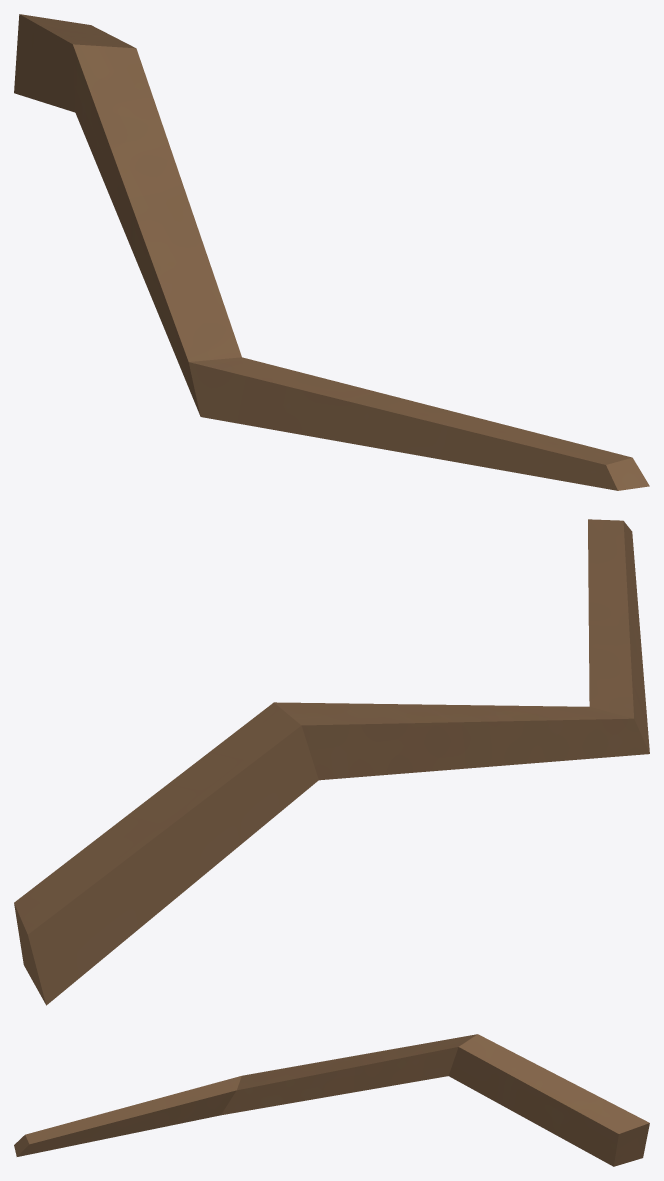
The model's file is Branch1.FBX.
The picture shows the model from 3 angles, top to bottom: view 1: azimuth 30°, elevation 25°; view 2: azimuth 150°, elevation 25°; view 3: azimuth 270°, elevation 25°; orthographic projection. The views are drawn at different scales.
Parts seen in each view (by area): view 1: Branch1; view 2: Branch1; view 3: Branch1.
Part boxes in pixels (left/top/right/bottom): Branch1: left=14, top=14, right=649, bottom=490; Branch1: left=14, top=519, right=649, bottom=1005; Branch1: left=14, top=1034, right=649, bottom=1166.
Bounding box in the file's own units: 35.18 × 24.19 × 141.
